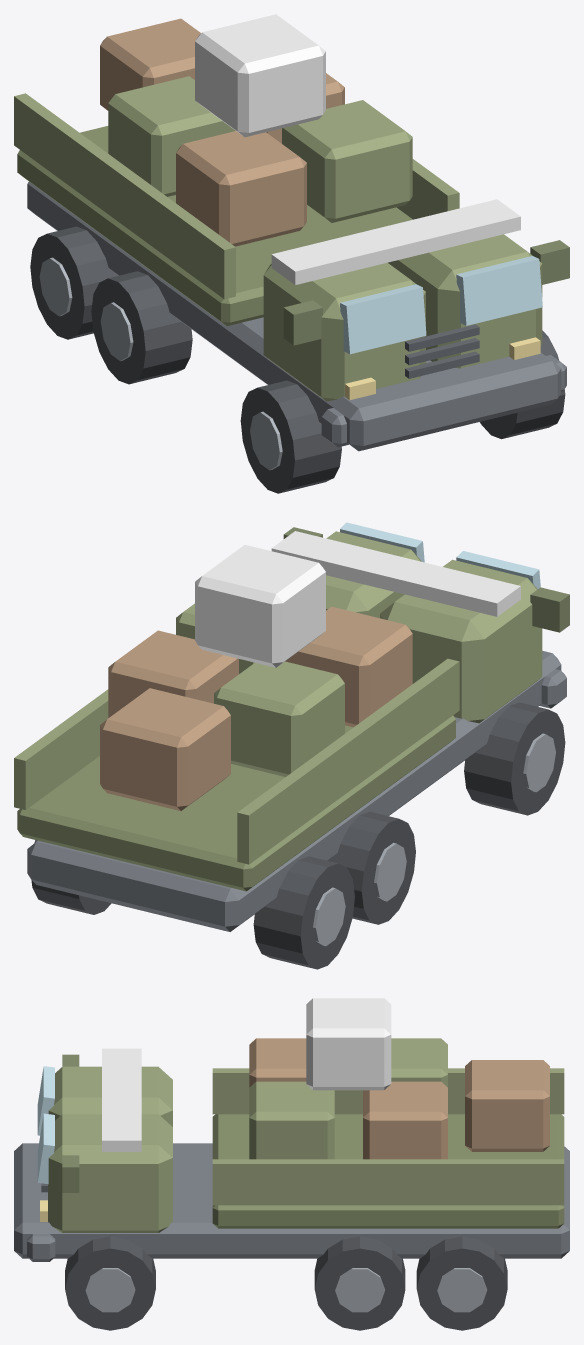
Rendered from supplytruck.glb.
3 views of the same model, one above another, from view 1: azimuth 30°, elevation 25°; view 2: azimuth 150°, elevation 25°; view 3: azimuth 270°, elevation 25° (orthographic). The views are drawn at different scales.
Parts seen in each view (by area): view 1: main; view 2: main; view 3: main.
Boxes of the visible parts, bbox=[...] form: main: bbox=[14, 14, 569, 493]; main: bbox=[14, 522, 569, 969]; main: bbox=[14, 998, 569, 1330].
Bounding box in the file's own units: 0.47 × 0.51 × 0.98.
